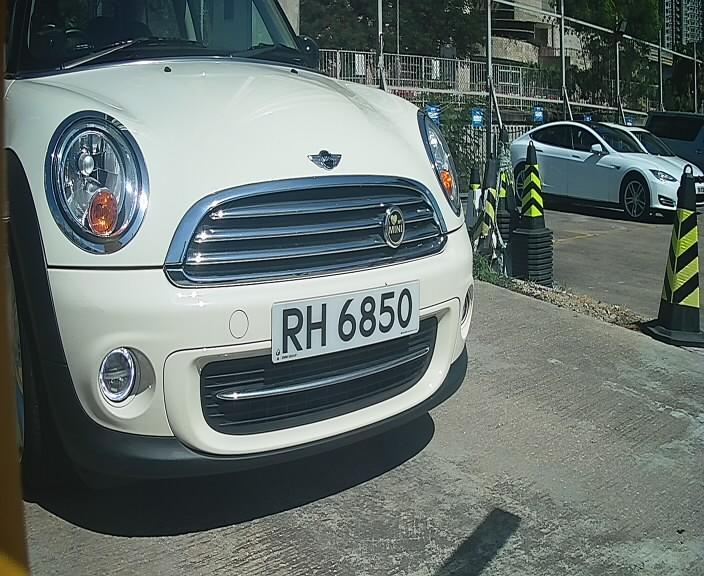License Plate: (265, 273, 422, 373)
